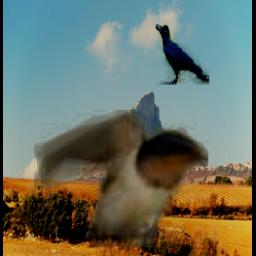Crow: (155, 25, 208, 86)
Swallow: (33, 111, 207, 248)
